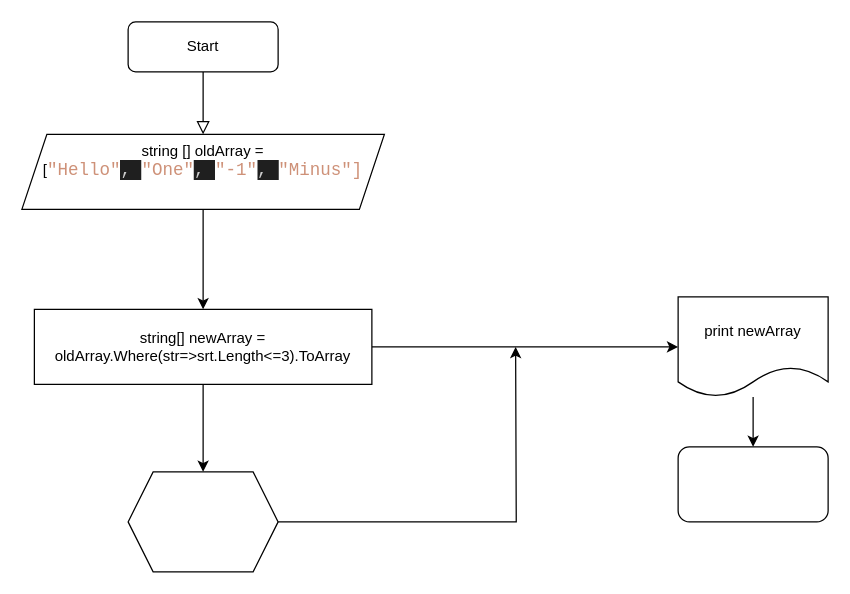
This 850x594 diagram has some shape labels left out. Here are the shapes that lost their labels. From the top down, the centre of each, then its label:
At [752,484]: "End".
At [202,521]: "foreach(string str in newArray)".
